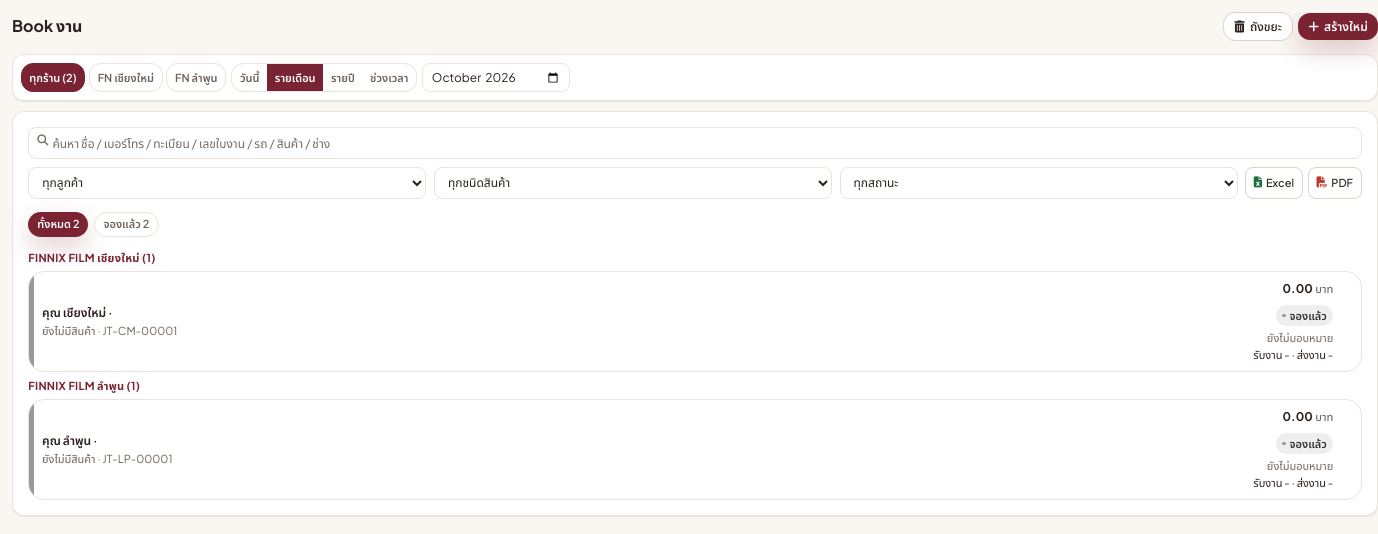
Test: TicketList — สาขาเป็นปุ่ม › filters the list to the branch pressed
Click the button "FN ลำพูน": (196,78) [166,63,226,92]
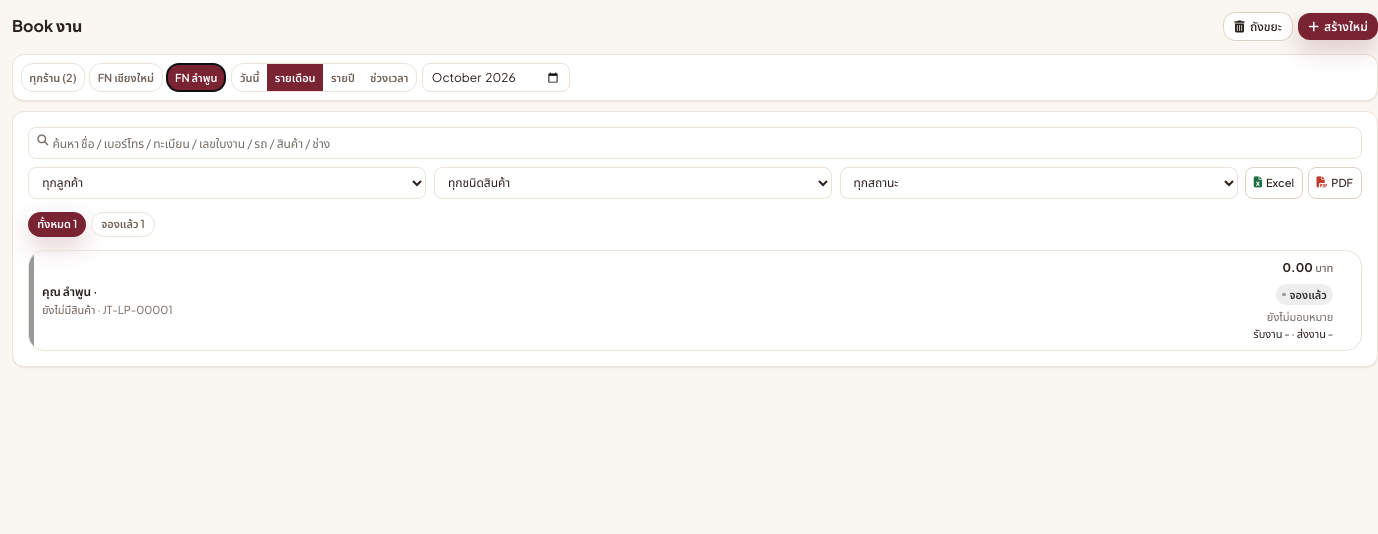
Check: the link "คุณ เชียงใหม่" is gone
